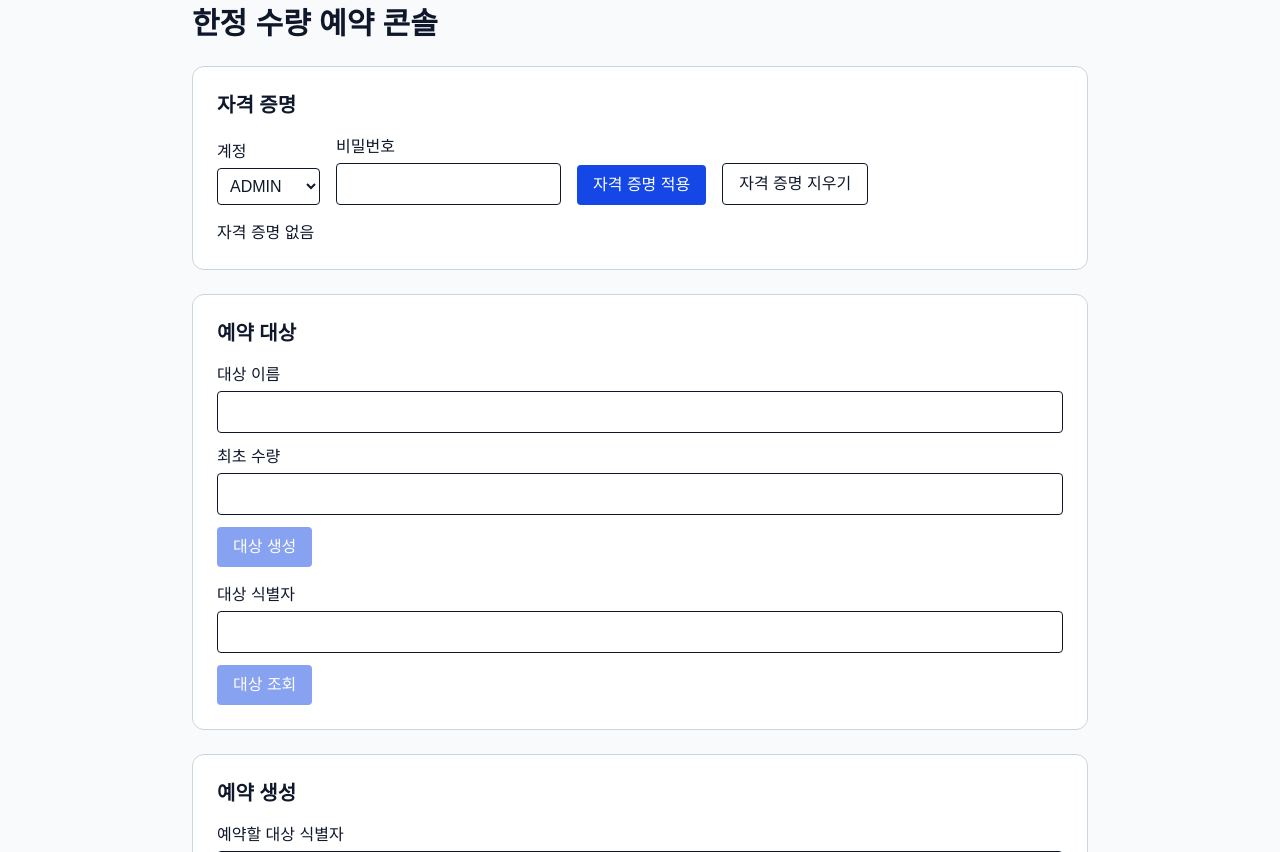
Scenario: 최근 기록 표시와 저장 › 대상 기록을 선택하면 입력을 채우고 해당 대상으로 새 GET을 보낸다
Select "USER_A" in the dropdown labelled "계정". click: (268, 186)
box: top-left (217, 168), bottom-right (320, 205)
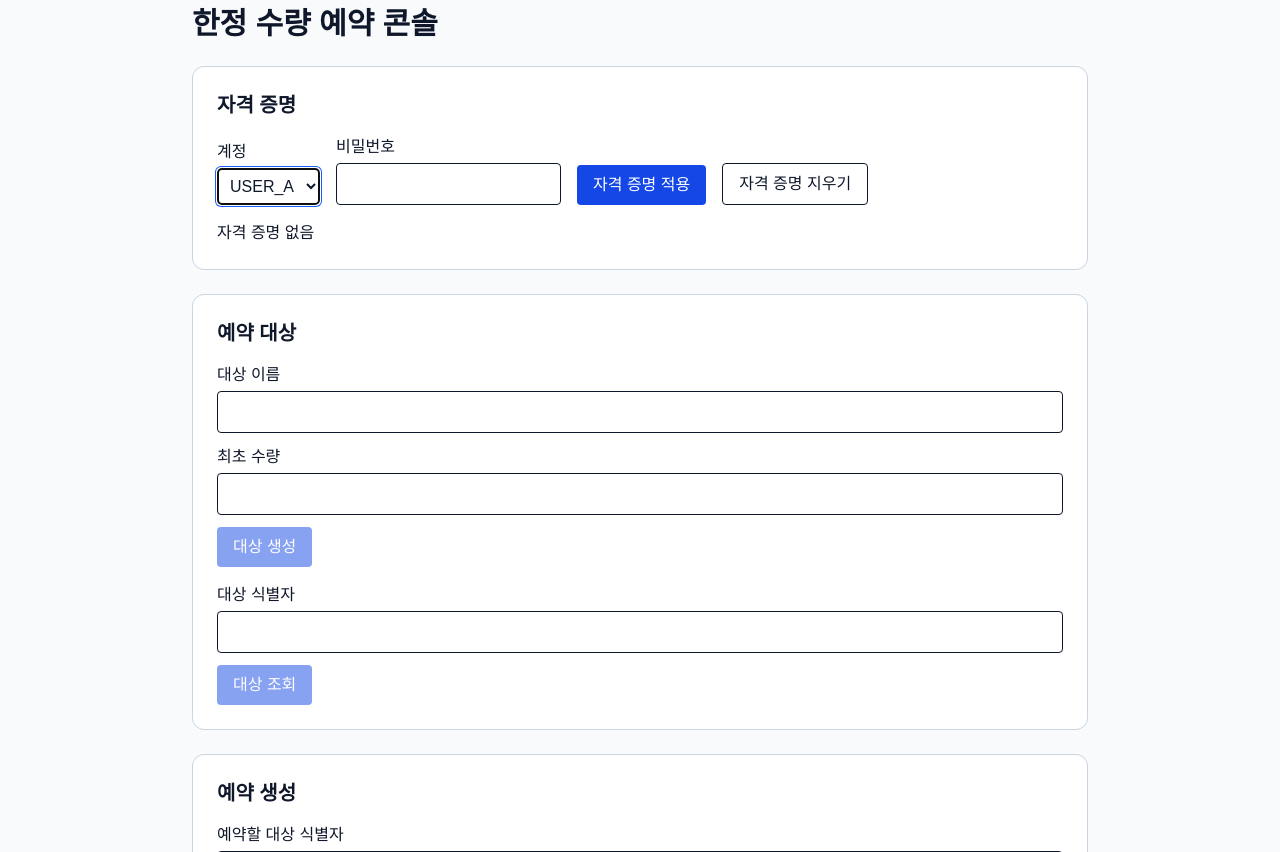
Type "history-secret-password" into the password field labelled "비밀번호". click: (448, 184)
box: top-left (336, 163), bottom-right (561, 205)
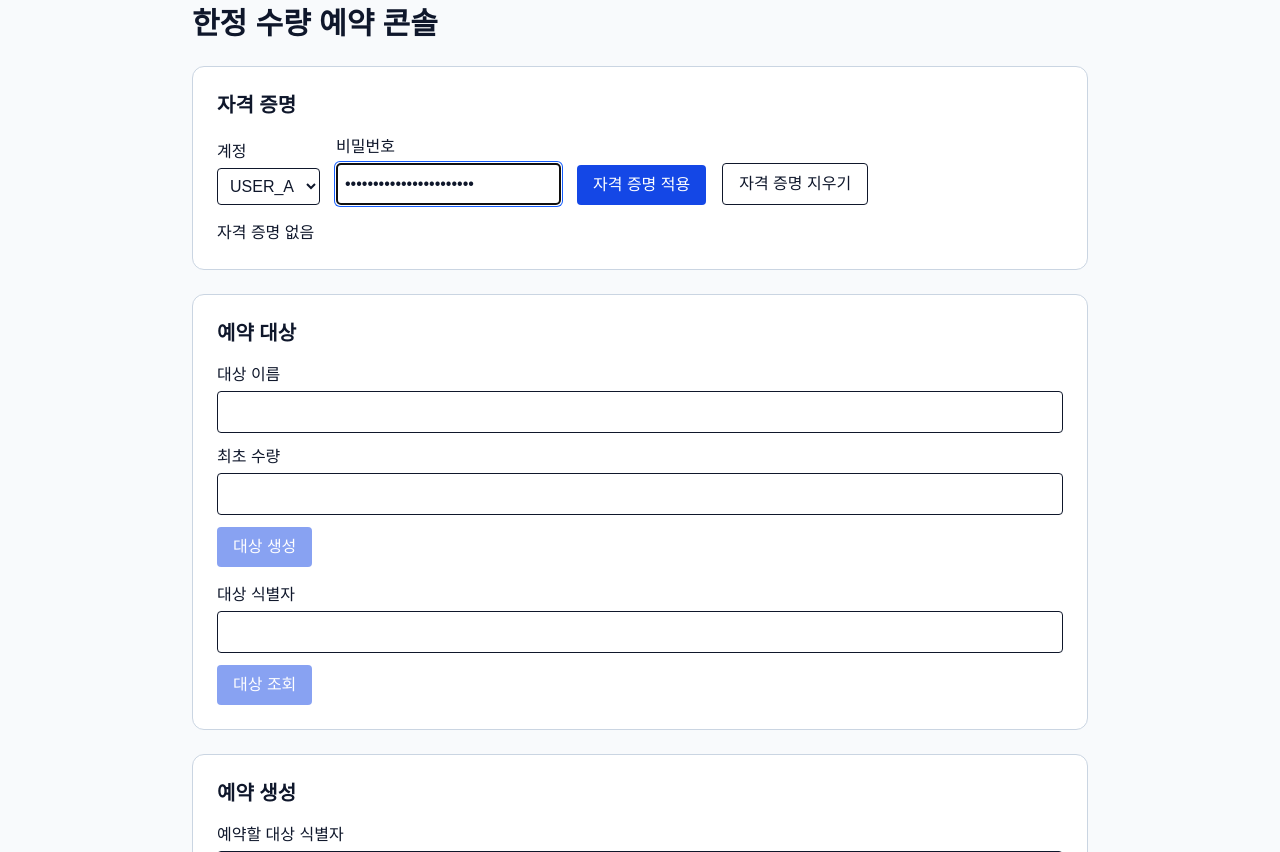
Click the button "자격 증명 적용". click: (642, 185)
box: top-left (577, 165), bottom-right (706, 205)
(page scrolled)
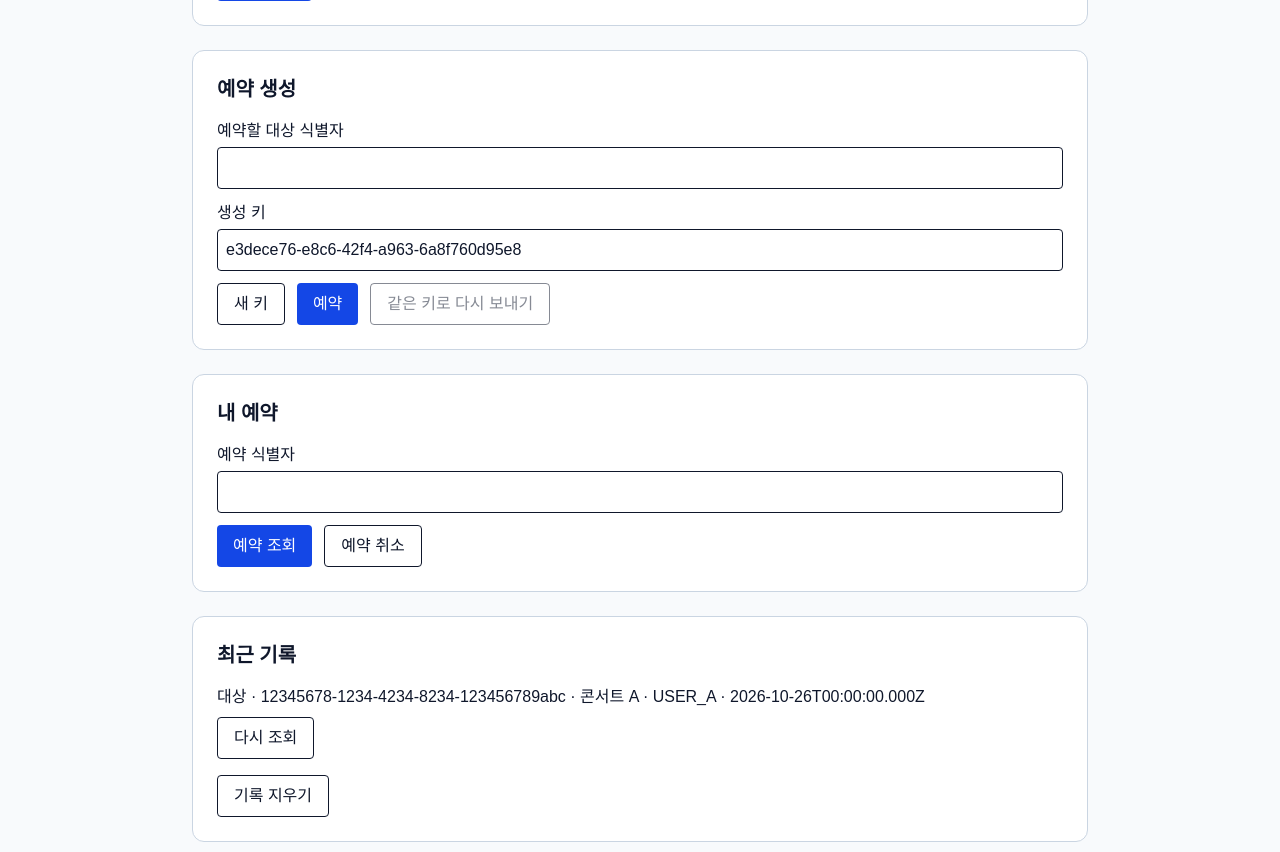
Click the button "다시 조회". click: (266, 738)
box: top-left (217, 717), bottom-right (314, 759)
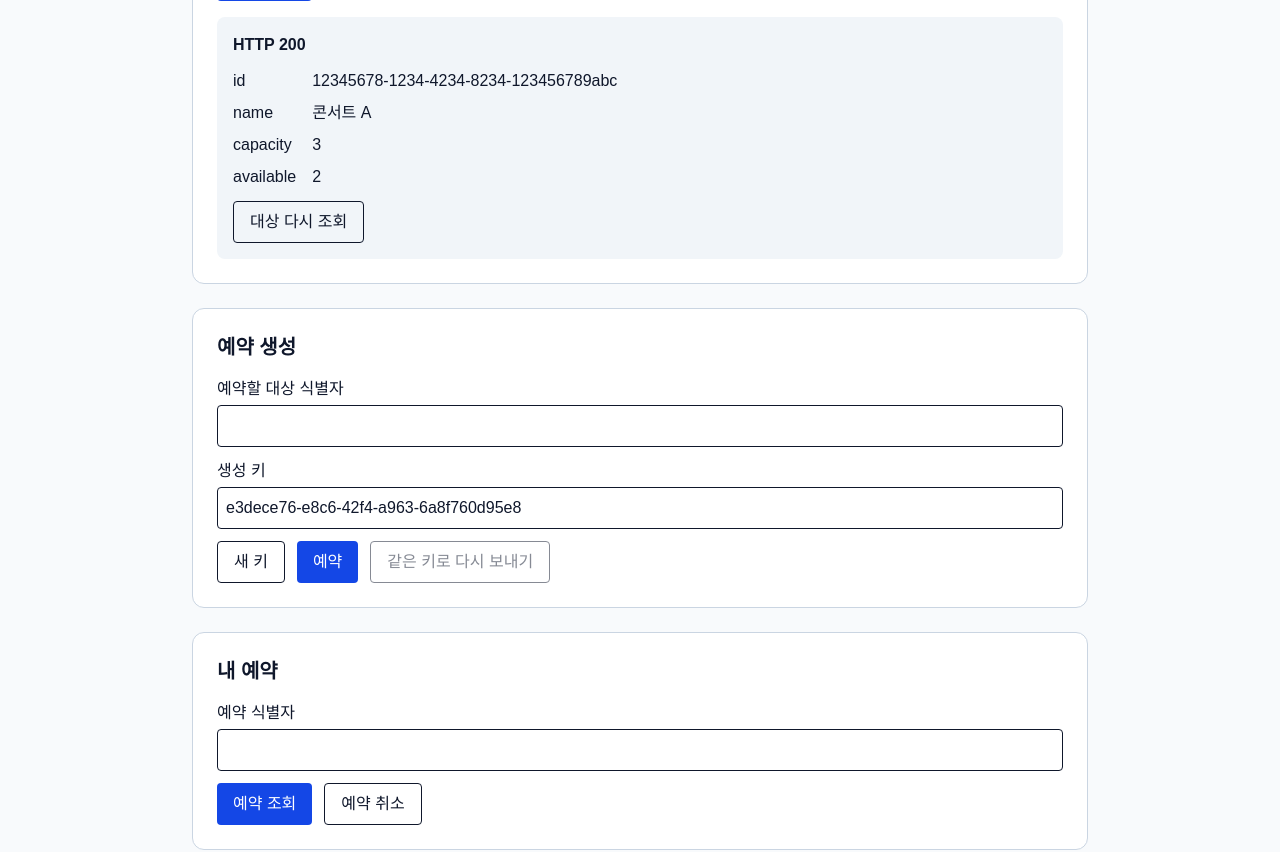
Now the message named "예약 대상 결과" is shown, box top-left (217, 17), bottom-right (1063, 259)
